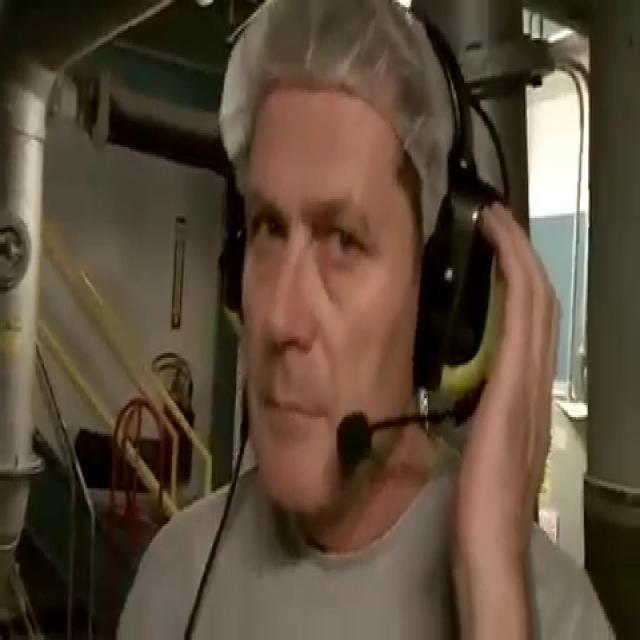earmuff: (417, 158, 510, 426)
